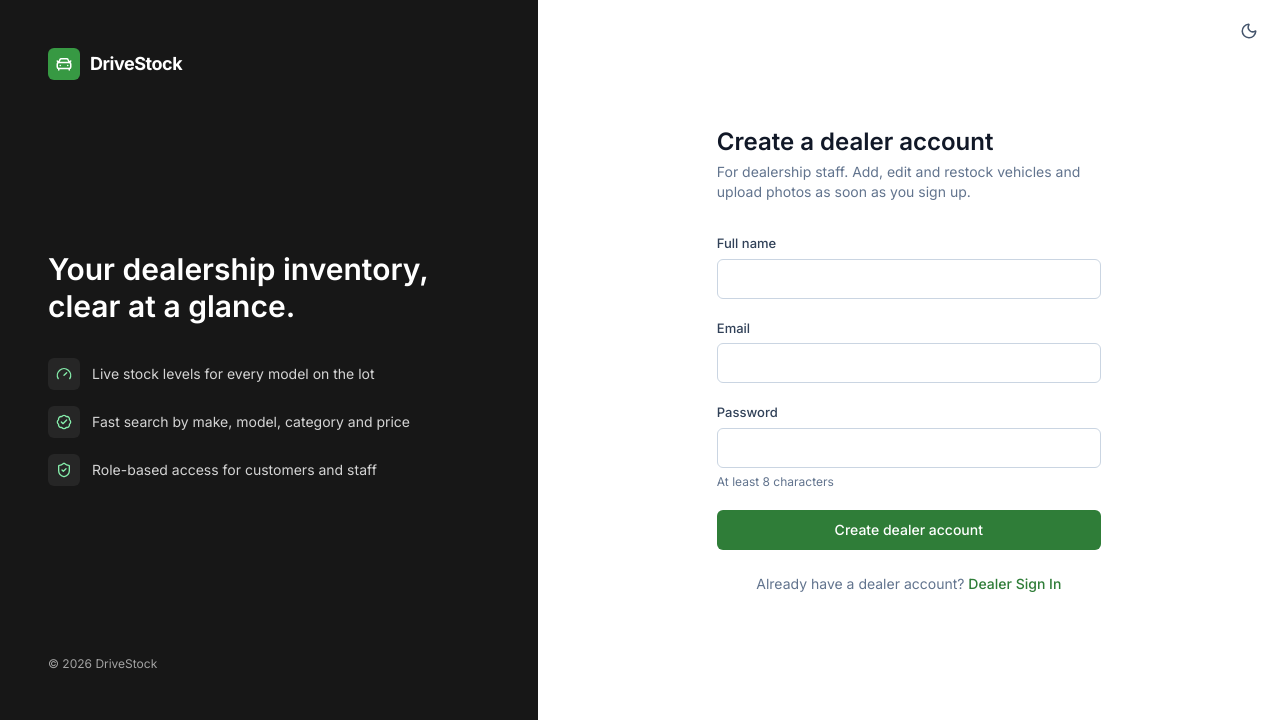
Test: dealer registration › asks only for name, email and password, and validates them
Step 1. Type "dana@motors.example" into the field labelled "Email" → (909, 363), box [717,343,1101,383]
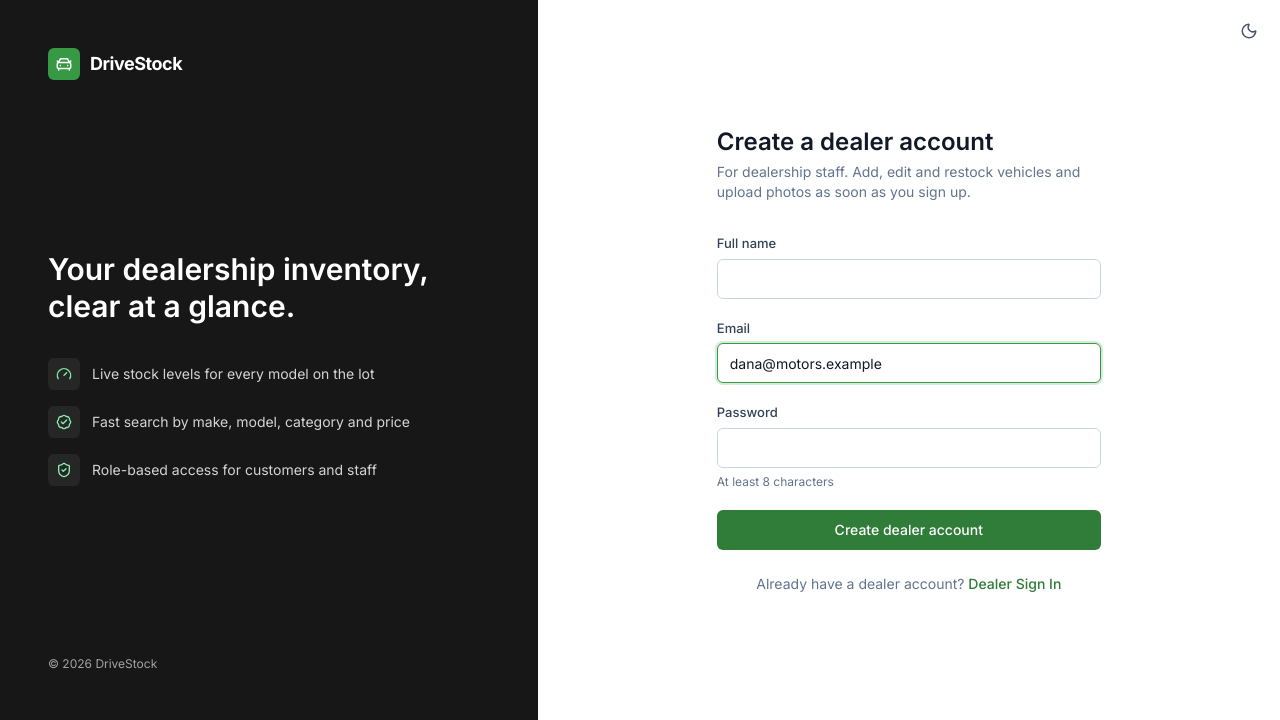
Step 2. Type "short" into the password field labelled "Password" → (909, 448), box [717,428,1101,468]
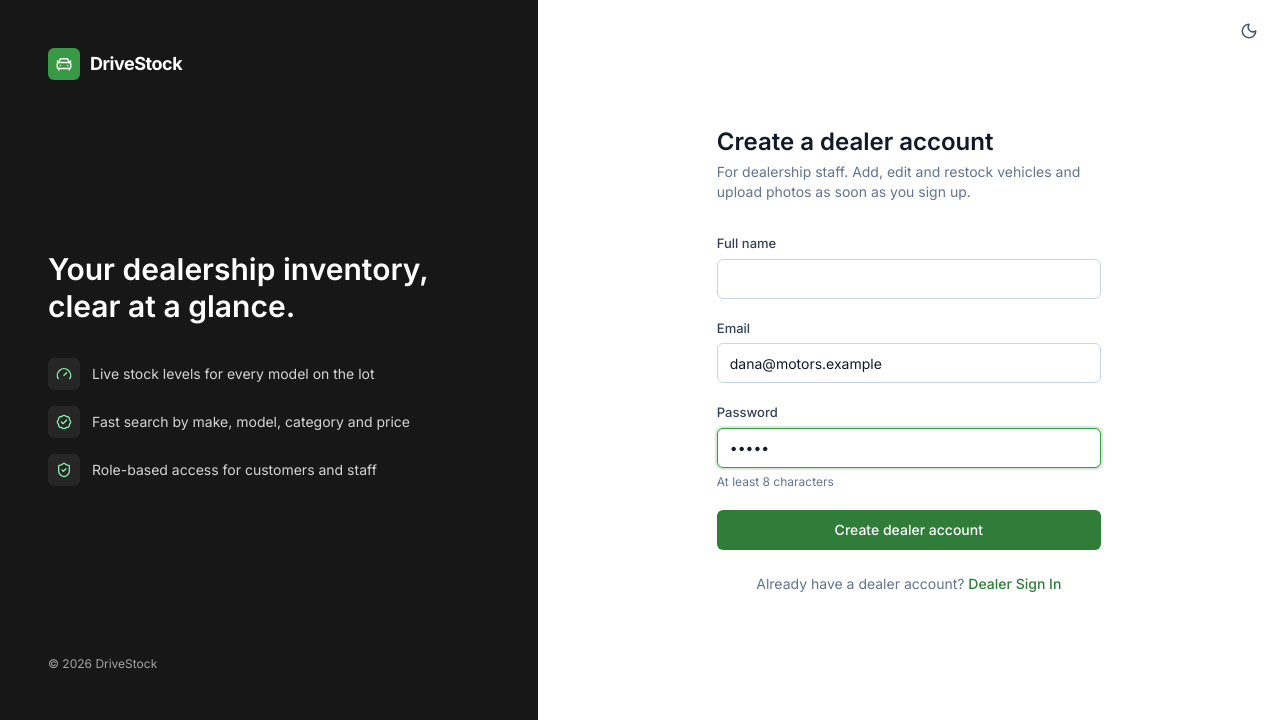
Step 3. Click the button "Create dealer account" → click(909, 530), box [717,510,1101,550]
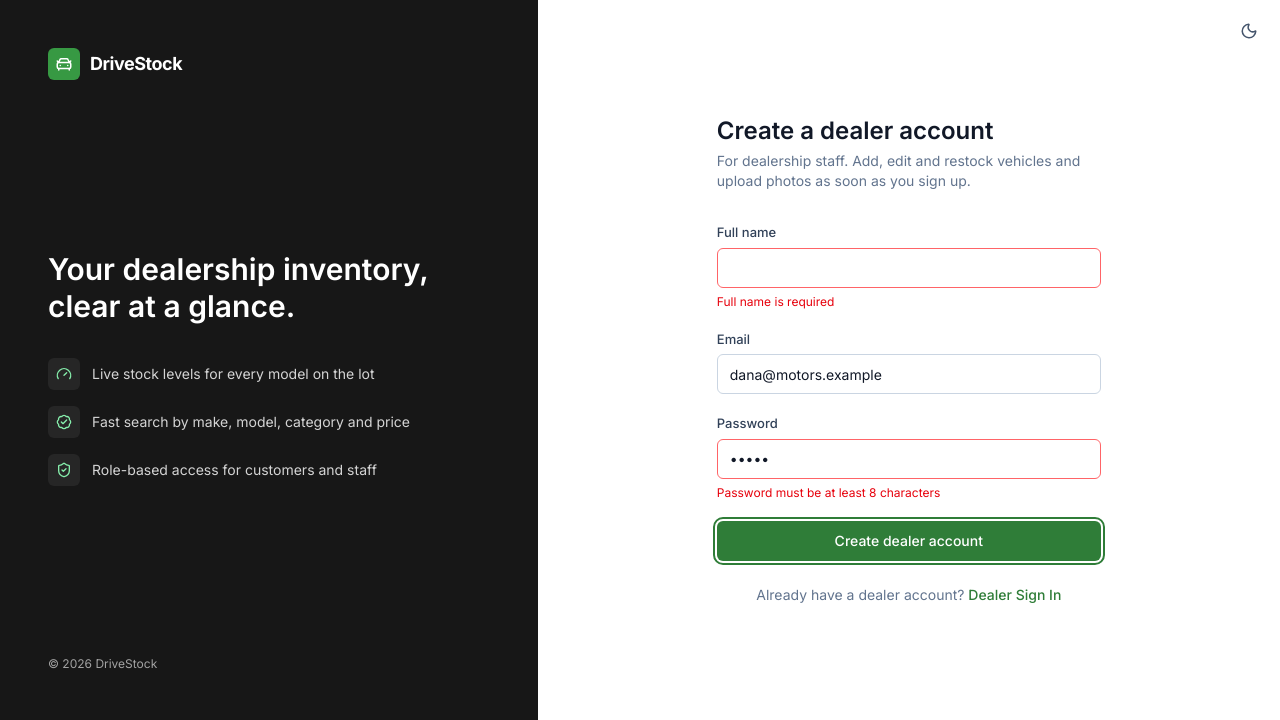
Expected: the text "Password must be at least 8 characters" is shown, [717,485,940,500]
Expected: the text "Full name is required" is shown, [717,294,834,309]
